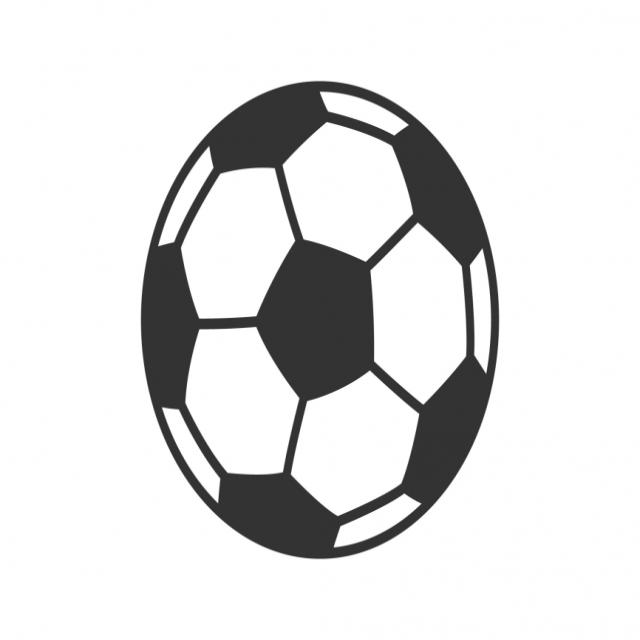soccer ball: (142, 85, 500, 558)
